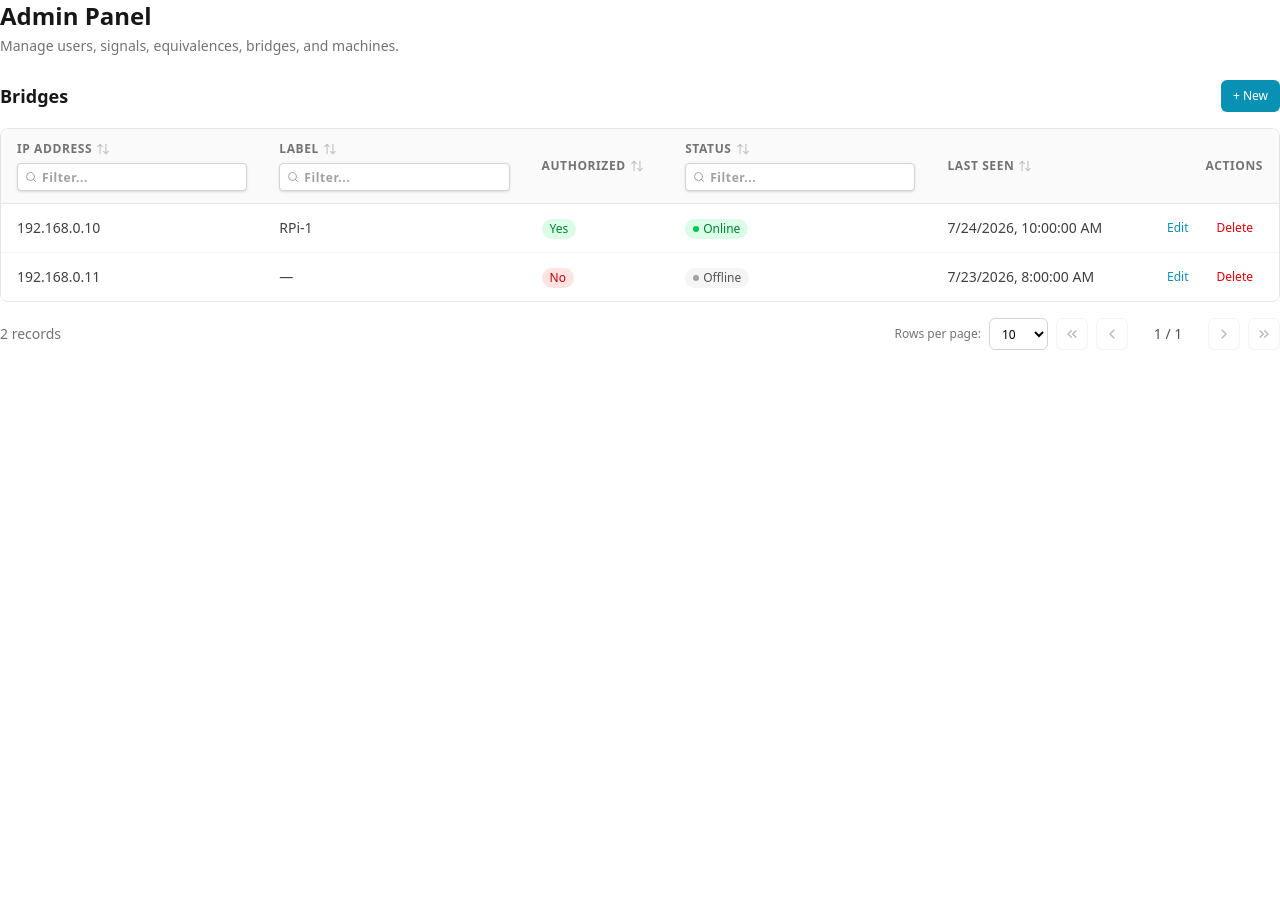
AdminPanelContainer › Bridges section › renders bridge list and opens register form
Check: the text "192.168.0.10" is shown, box [1,204,263,252]
Check: the text "RPi-1" is shown, box [263,204,526,252]
Click the button "+ New" at (1250, 96), box [1221,80,1279,112]
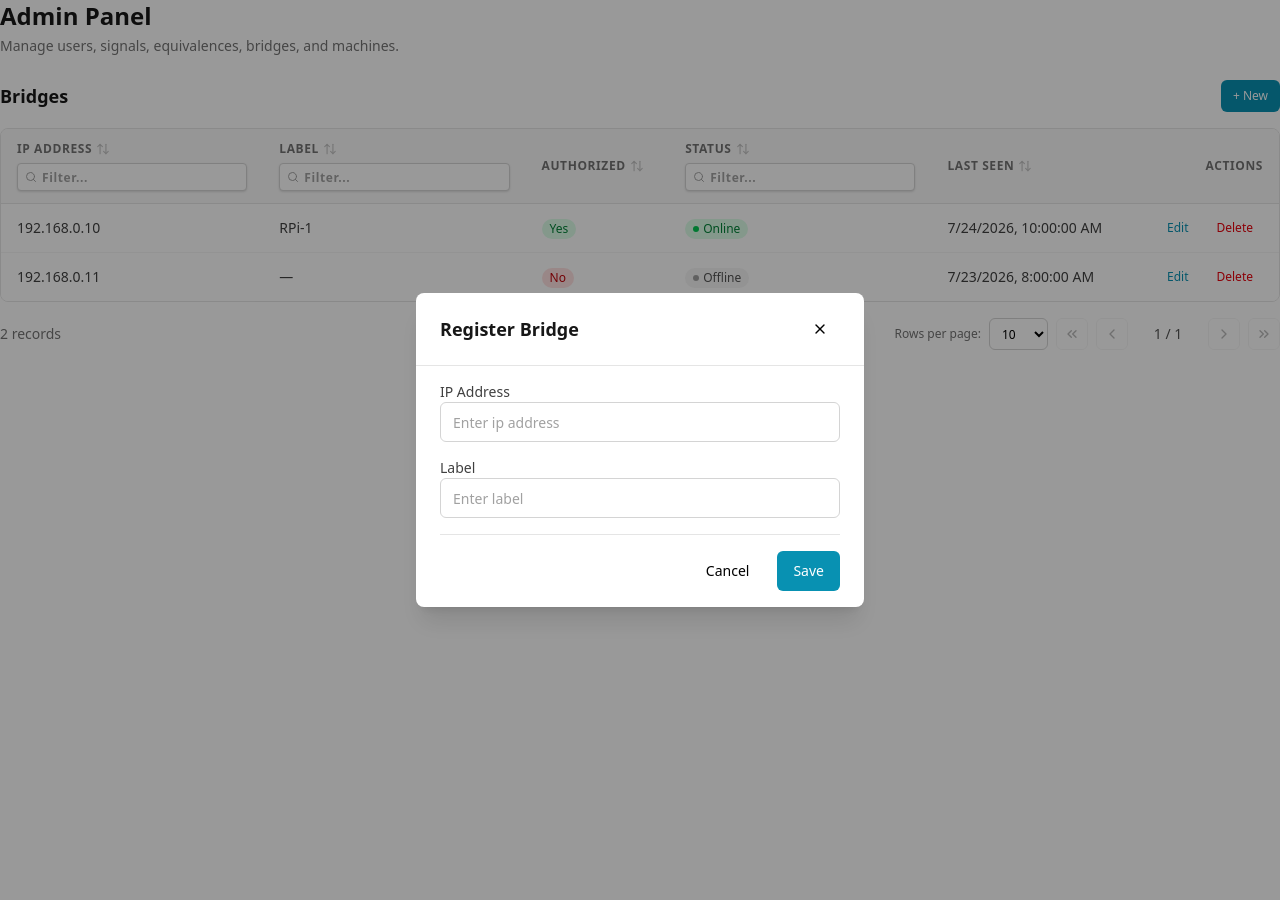
Check: the heading "Register Bridge" is shown, box [440,315,579,343]
